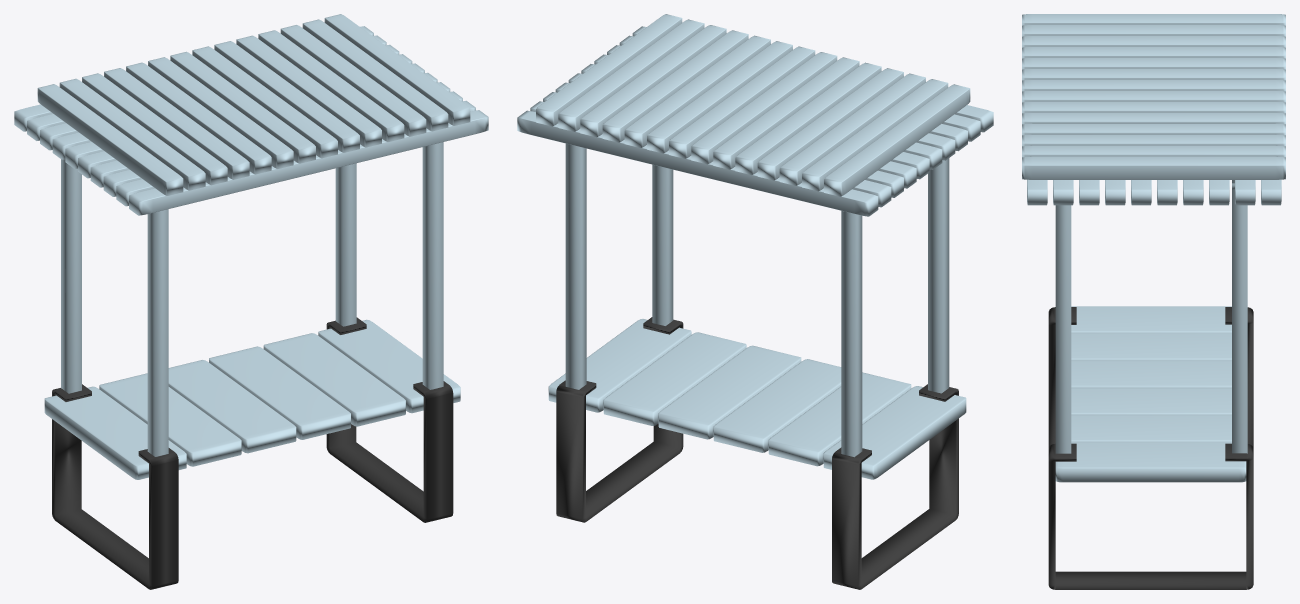
Rendered from ZONADEENTREGAFINALAZUL.fbx.
3 views of the same model, side by side, from view 1: azimuth 30°, elevation 25°; view 2: azimuth 150°, elevation 25°; view 3: azimuth 270°, elevation 25° (orthographic).
Parts seen in each view (by area): view 1: Cube.008, Cube.002, Cube; view 2: Cube.008, Cube.002, Cube; view 3: Cube.008, Cube.002, Cube.
Part boxes in pixels (x1,y1,x2,y2): Cube.008: (14, 14, 488, 215); Cube.002: (44, 317, 460, 589); Cube: (61, 142, 443, 456); Cube.008: (517, 14, 993, 216); Cube.002: (548, 317, 966, 589); Cube: (565, 143, 949, 457); Cube.008: (1022, 14, 1285, 205); Cube.002: (1048, 306, 1253, 589); Cube: (1055, 180, 1247, 453).
Size of the model in its own units: 433 by 494 by 277.
